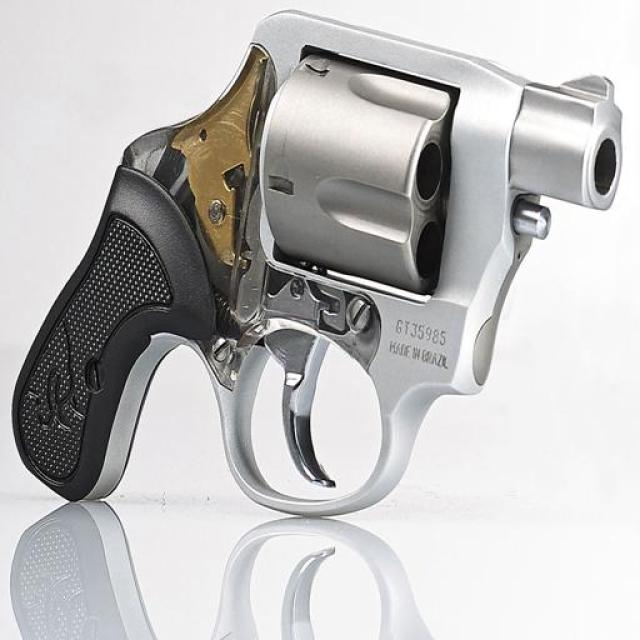pistol: (8, 10, 629, 516)
